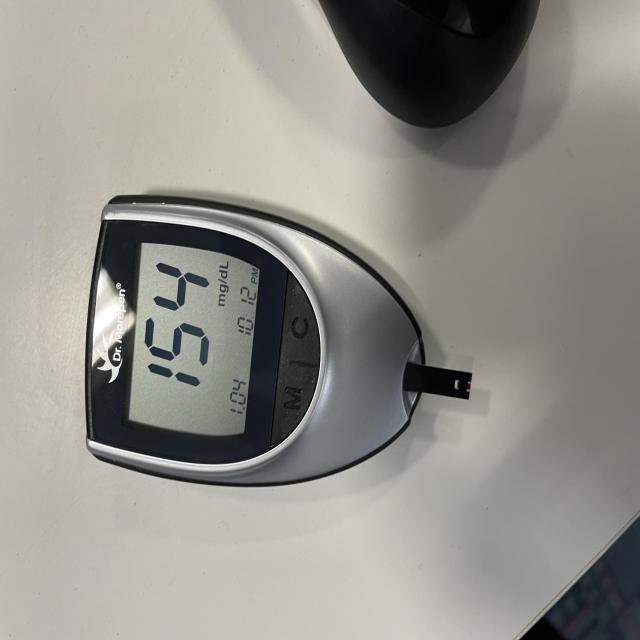gluco: (83, 192, 471, 488)
